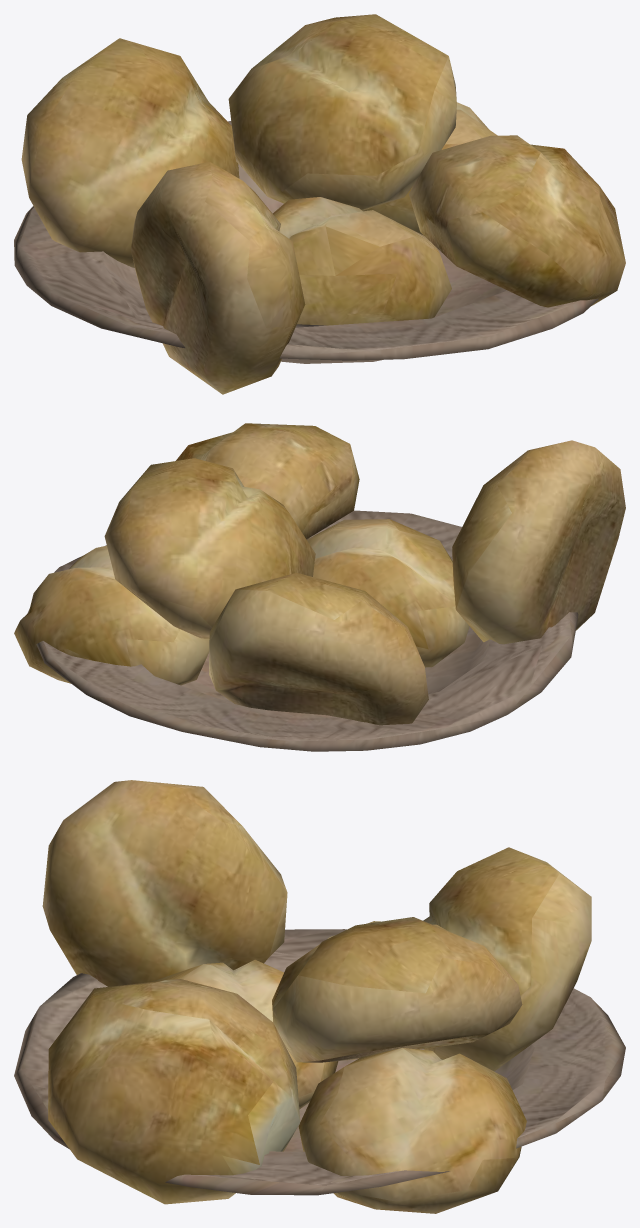
File: BunPlate.glb
3 views of the same model, one above another, from view 1: azimuth 30°, elevation 25°; view 2: azimuth 150°, elevation 25°; view 3: azimuth 270°, elevation 25° (orthographic). The views are drawn at different scales.
Parts seen in each view (by area): view 1: BunPlate; view 2: BunPlate; view 3: BunPlate.
Part boxes in pixels (<box>): BunPlate: <box>14,14,625,394</box>; BunPlate: <box>14,423,625,751</box>; BunPlate: <box>14,780,625,1213</box>.
Size of the model in its own units: 0.2723 by 0.1197 by 0.2705.
2 materials, 2 textured.
